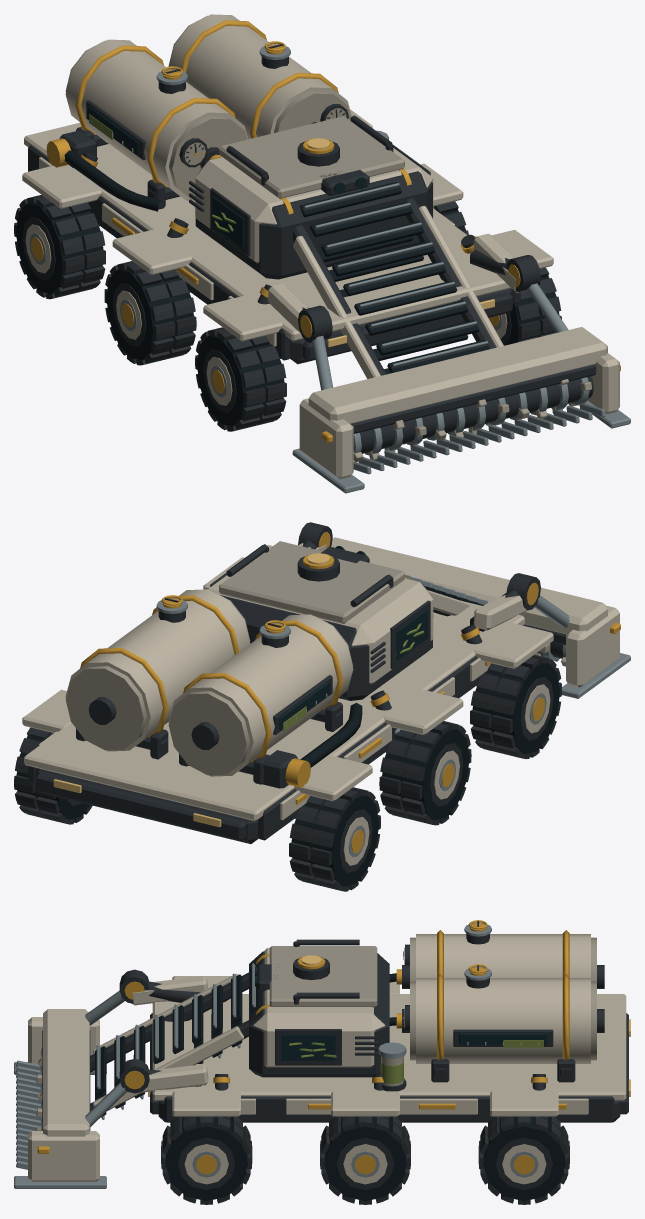
Rendered from yushirover_d0_lod1.glb.
The picture shows the model from 3 angles, top to bottom: view 1: azimuth 30°, elevation 25°; view 2: azimuth 150°, elevation 25°; view 3: azimuth 270°, elevation 25°; orthographic projection. The views are drawn at different scales.
Visible parts, largest first — view 1: CHASSIS_PROCESSOR_SURFACE, PICKUP_CASSETTE, TANK_0_SURFACE, TANK_1_SURFACE, WHEEL_L1_SURFACE, WHEEL_L2_SURFACE, WHEEL_L3_SURFACE, PICKUP_ROTOR, WHEEL_R3_SURFACE, CONVEYOR_SLAT_SURFACE_7, CONVEYOR_SLAT_SURFACE_4, CONVEYOR_SLAT_SURFACE_6 (+6 smaller); view 2: CHASSIS_PROCESSOR_SURFACE, TANK_0_SURFACE, TANK_1_SURFACE, PICKUP_CASSETTE, WHEEL_L2_SURFACE, WHEEL_L3_SURFACE, WHEEL_L1_SURFACE, WHEEL_R1_SURFACE; view 3: CHASSIS_PROCESSOR_SURFACE, TANK_1_SURFACE, PICKUP_CASSETTE, TANK_0_SURFACE, WHEEL_R1_SURFACE, WHEEL_R3_SURFACE, WHEEL_R2_SURFACE, CONVEYOR_SLAT_SURFACE_2, CONVEYOR_SLAT_SURFACE_9, CONVEYOR_SLAT_SURFACE_7, CONVEYOR_SLAT_SURFACE_8, CONVEYOR_SLAT_SURFACE_6 (+3 smaller).
Part boxes in pixels (left/top/right/bottom): CHASSIS_PROCESSOR_SURFACE: left=22, top=109, right=568, bottom=390; PICKUP_CASSETTE: left=292, top=327, right=630, bottom=493; TANK_0_SURFACE: left=65, top=39, right=248, bottom=209; TANK_1_SURFACE: left=168, top=14, right=351, bottom=139; WHEEL_L1_SURFACE: left=14, top=195, right=105, bottom=299; WHEEL_L2_SURFACE: left=104, top=261, right=196, bottom=365; WHEEL_L3_SURFACE: left=195, top=327, right=286, bottom=431; PICKUP_ROTOR: left=353, top=376, right=593, bottom=462; WHEEL_R3_SURFACE: left=488, top=267, right=561, bottom=345; CONVEYOR_SLAT_SURFACE_7: left=332, top=241, right=434, bottom=276; CONVEYOR_SLAT_SURFACE_4: left=365, top=300, right=468, bottom=335; CONVEYOR_SLAT_SURFACE_6: left=343, top=261, right=445, bottom=296; CHASSIS_PROCESSOR_SURFACE: left=22, top=522, right=569, bottom=843; TANK_0_SURFACE: left=168, top=614, right=353, bottom=784; TANK_1_SURFACE: left=65, top=589, right=250, bottom=759; PICKUP_CASSETTE: left=331, top=537, right=630, bottom=698; WHEEL_L2_SURFACE: left=379, top=721, right=471, bottom=825; WHEEL_L3_SURFACE: left=470, top=654, right=561, bottom=759; WHEEL_L1_SURFACE: left=289, top=787, right=380, bottom=891; WHEEL_R1_SURFACE: left=14, top=727, right=92, bottom=824; CHASSIS_PROCESSOR_SURFACE: left=85, top=939, right=630, bottom=1127; TANK_1_SURFACE: left=402, top=967, right=604, bottom=1082; PICKUP_CASSETTE: left=14, top=1009, right=106, bottom=1188; TANK_0_SURFACE: left=402, top=922, right=604, bottom=988; WHEEL_R1_SURFACE: left=478, top=1116, right=569, bottom=1204; WHEEL_R3_SURFACE: left=161, top=1116, right=252, bottom=1204; WHEEL_R2_SURFACE: left=320, top=1116, right=410, bottom=1204; CONVEYOR_SLAT_SURFACE_2: left=95, top=1045, right=106, bottom=1094; CONVEYOR_SLAT_SURFACE_9: left=231, top=973, right=242, bottom=1023; CONVEYOR_SLAT_SURFACE_7: left=192, top=994, right=203, bottom=1043; CONVEYOR_SLAT_SURFACE_8: left=211, top=984, right=222, bottom=1033; CONVEYOR_SLAT_SURFACE_6: left=172, top=1004, right=183, bottom=1053.
Size of the model in its own units: 5.43 by 3.53 by 10.29.
